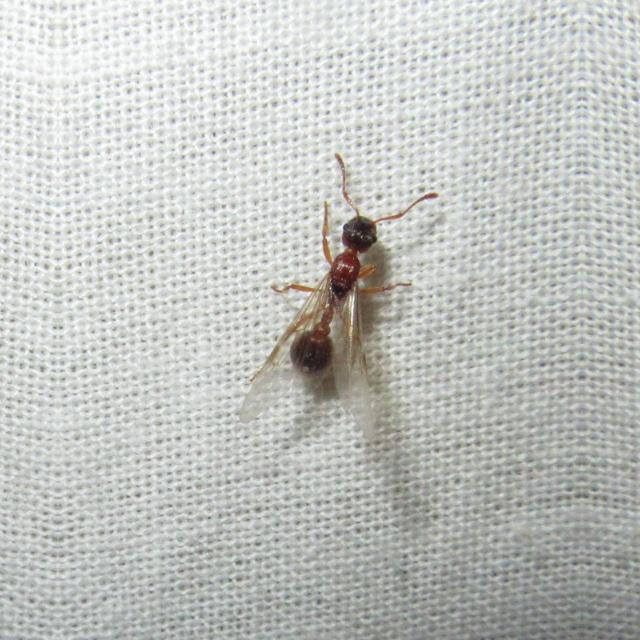Myrmica: (253, 140, 439, 390)
